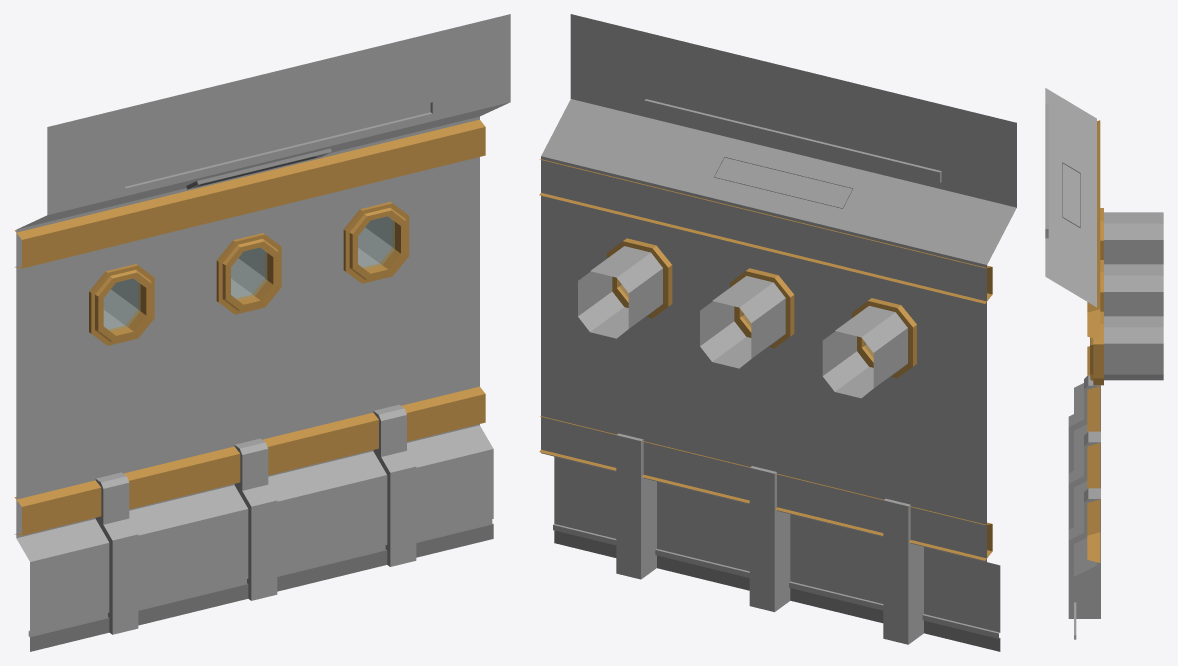
Rendered from SmallWindows_Wall_SideA.gltf.
3 renders of one model, left to right at view 1: azimuth 30°, elevation 25°; view 2: azimuth 150°, elevation 25°; view 3: azimuth 270°, elevation 25°, orthographic. The views are drawn at different scales.
Visible parts, largest first — view 1: SmallWindows_Wall_SideA; view 2: SmallWindows_Wall_SideA; view 3: SmallWindows_Wall_SideA.
Part boxes in pixels (<box>): SmallWindows_Wall_SideA: <box>14,14,510,651</box>; SmallWindows_Wall_SideA: <box>539,14,1016,651</box>; SmallWindows_Wall_SideA: <box>1045,88,1163,639</box>.
Bounding box in the file's own units: 4 × 4.43 × 1.06.
